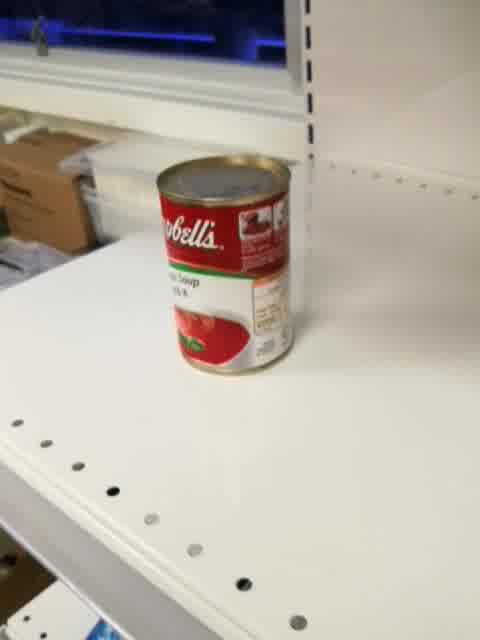tomatosoup: (153, 153, 297, 379)
